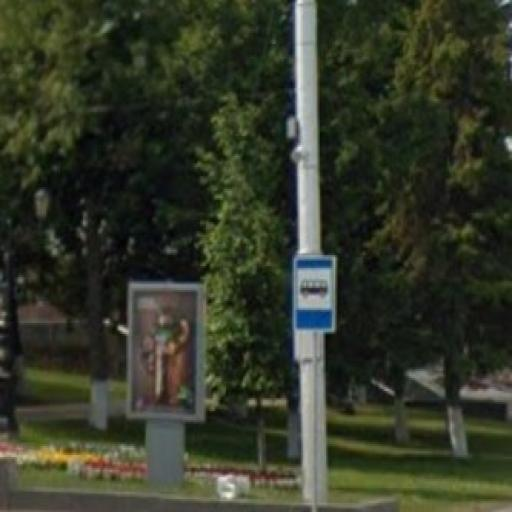traffic_sign: (293, 254, 339, 335)
